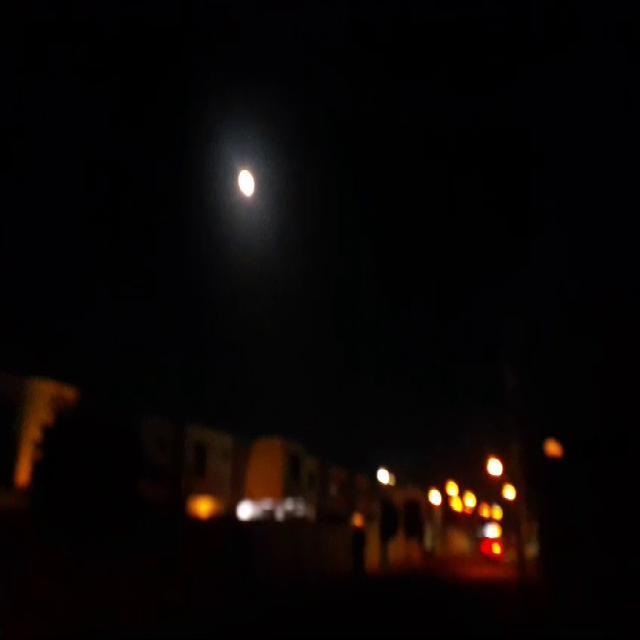moon: (234, 169, 254, 203)
